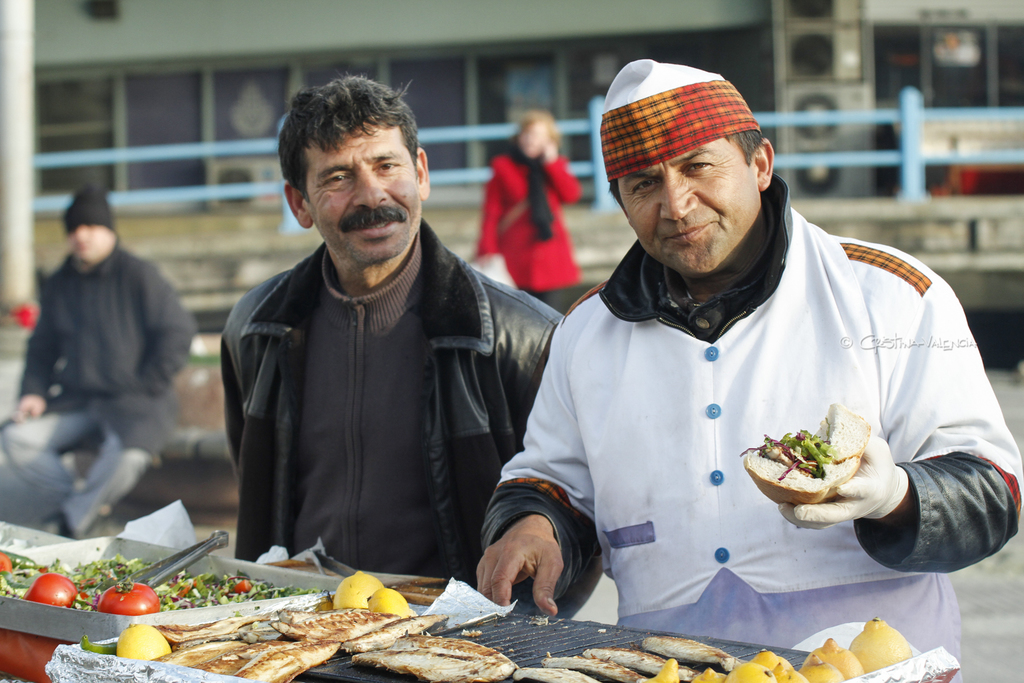Hamburger: (736, 402, 871, 507)
